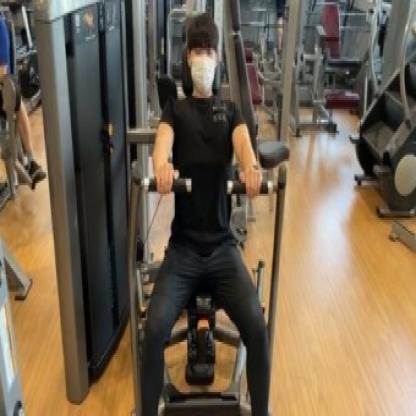Chest Press machine: (34, 0, 293, 416)
